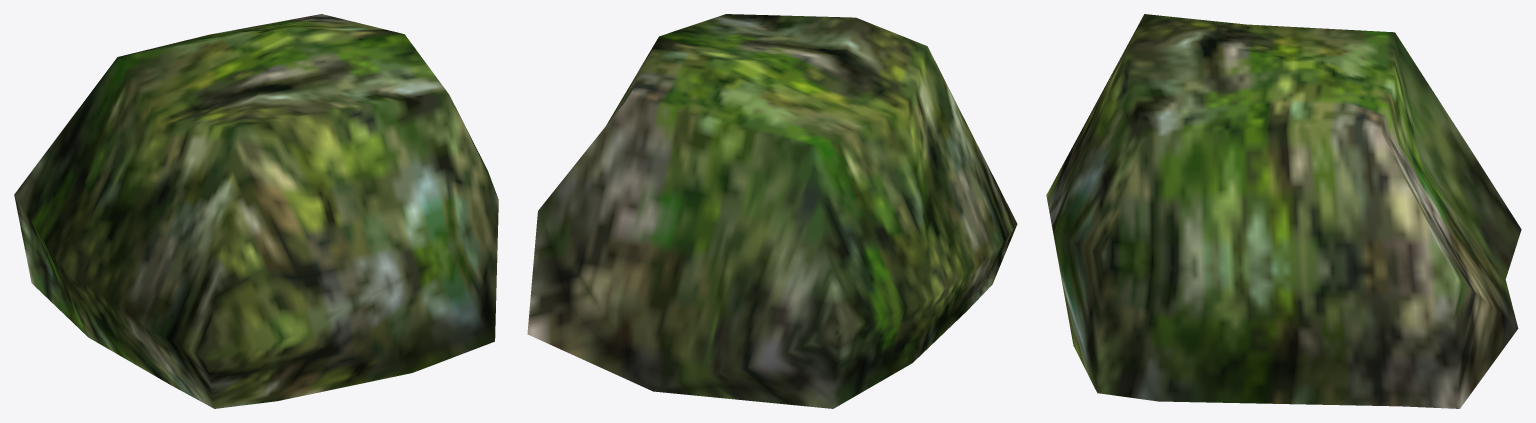
Rendered from frst_rock_mossy_sm_l0.fbx.
The picture shows the model from 3 angles, left to right: view 1: azimuth 30°, elevation 25°; view 2: azimuth 150°, elevation 25°; view 3: azimuth 270°, elevation 25°; orthographic projection. The views are drawn at different scales.
Parts seen in each view (by area): view 1: mesh_node; view 2: mesh_node; view 3: mesh_node.
Boxes of the visible parts, left/top/right/bottom form: mesh_node: left=14, top=14, right=498, bottom=408; mesh_node: left=527, top=14, right=1017, bottom=408; mesh_node: left=1046, top=14, right=1521, bottom=408.
Bounding box in the file's own units: 0.7585 × 0.5315 × 0.8458.
